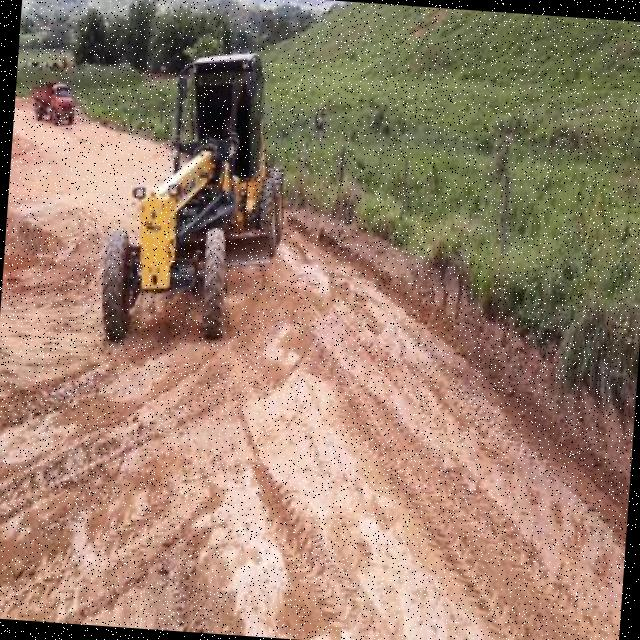Dump Truck: (28, 75, 78, 127)
Grader: (96, 46, 294, 349)
